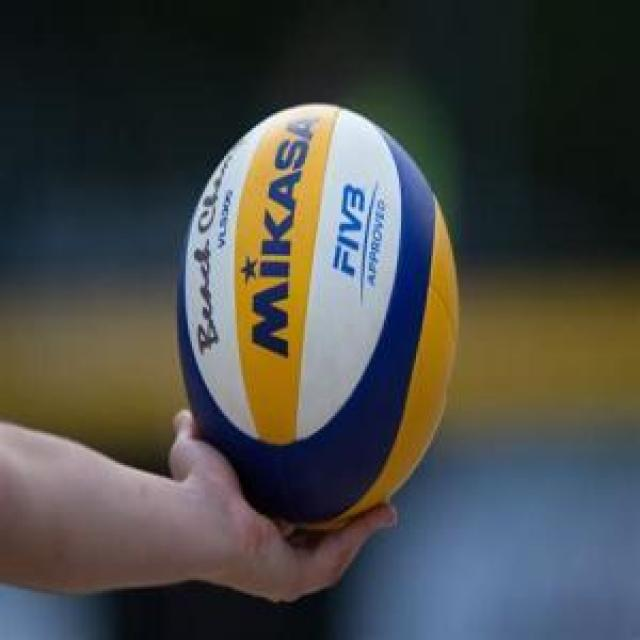volleyball: (172, 102, 458, 532)
